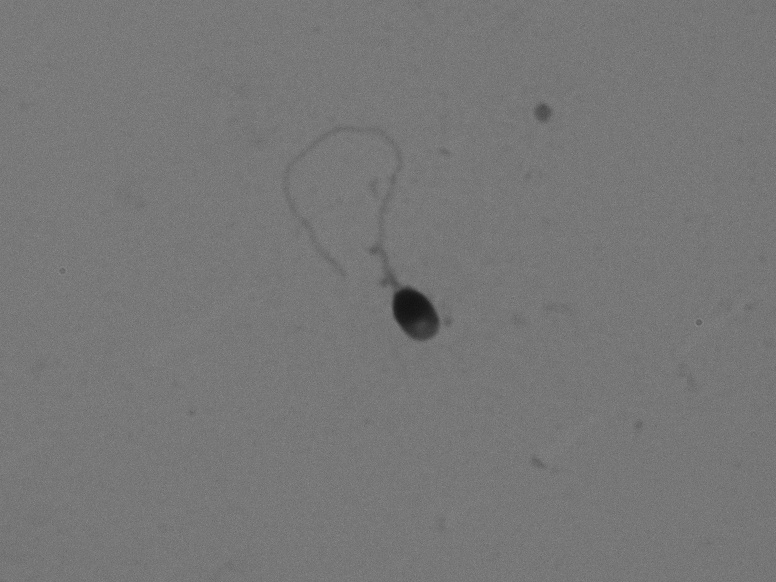Abnormal: (237, 102, 464, 367)
